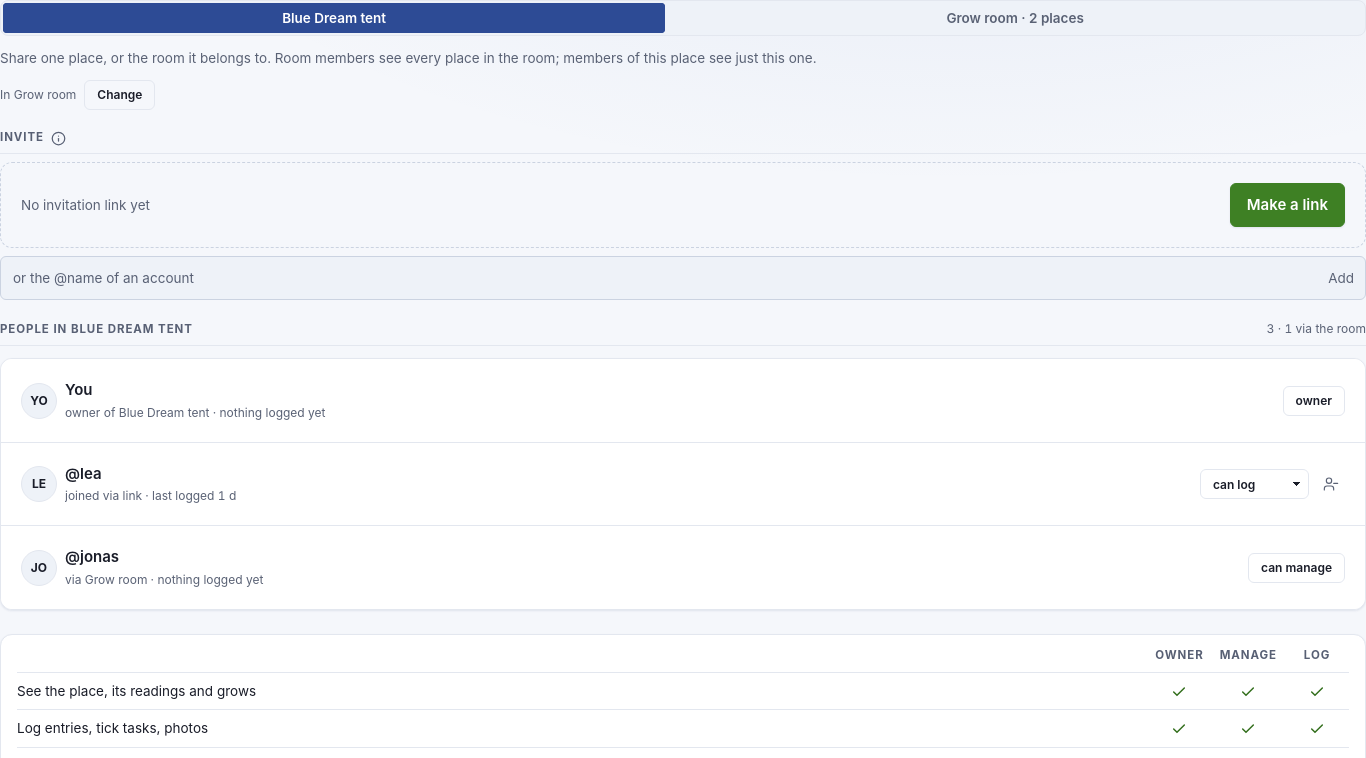
Scenario: the Members tab as its owner › makes a link that lives seven days and lets somebody in to log unless told otherwise, and shows the address afterwards
Click the button "Make a link" at (1287, 205), box left=1230, top=183, right=1345, bottom=227
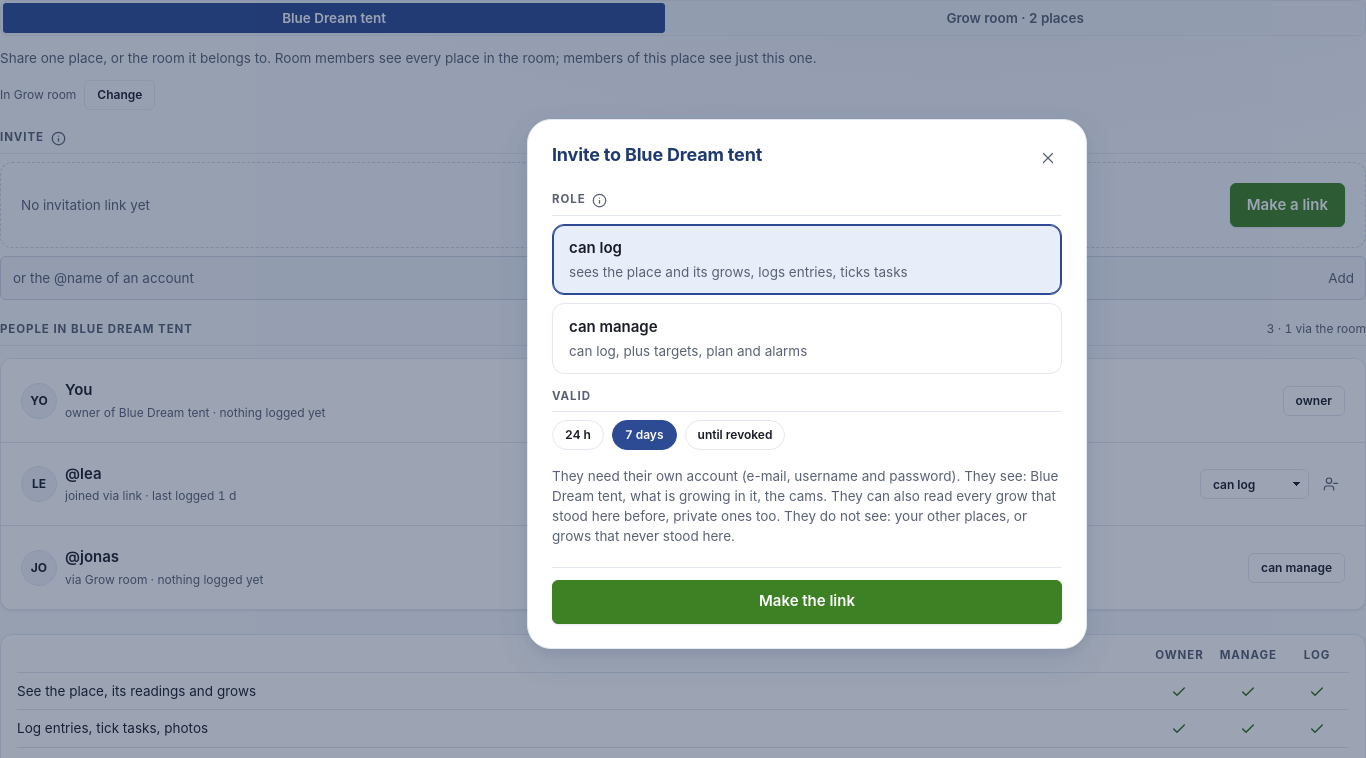
Click the button "Make the link" at (807, 602), box left=552, top=580, right=1062, bottom=624
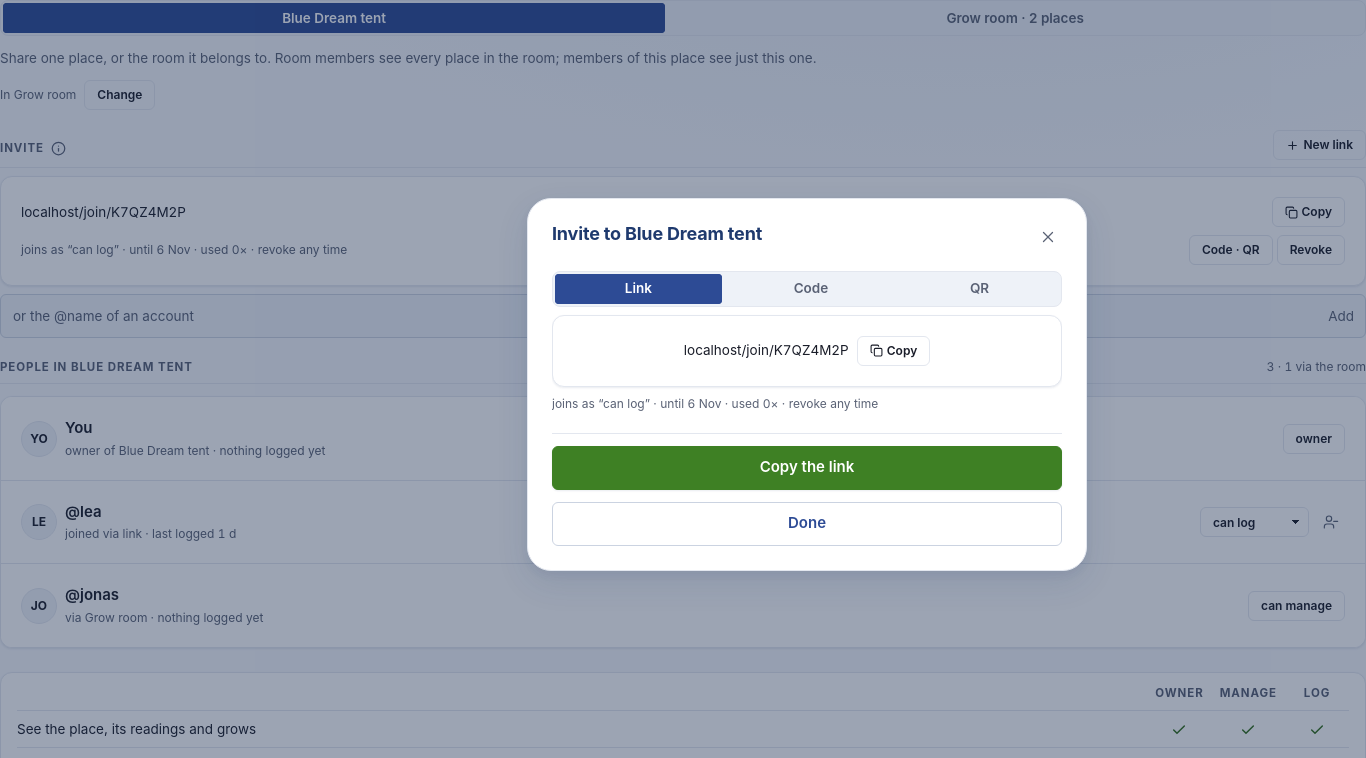
Check: the 1st text "localhost/join/K7QZ4M2P" is shown, box left=21, top=204, right=186, bottom=220
Check: the button with aria-label "Copy the invite link" is shown, box left=1272, top=197, right=1345, bottom=227
Check: the 1st text "joins as “can log” · until 6 Nov · used 0× · revoke any time" is shown, box left=21, top=241, right=347, bottom=259
